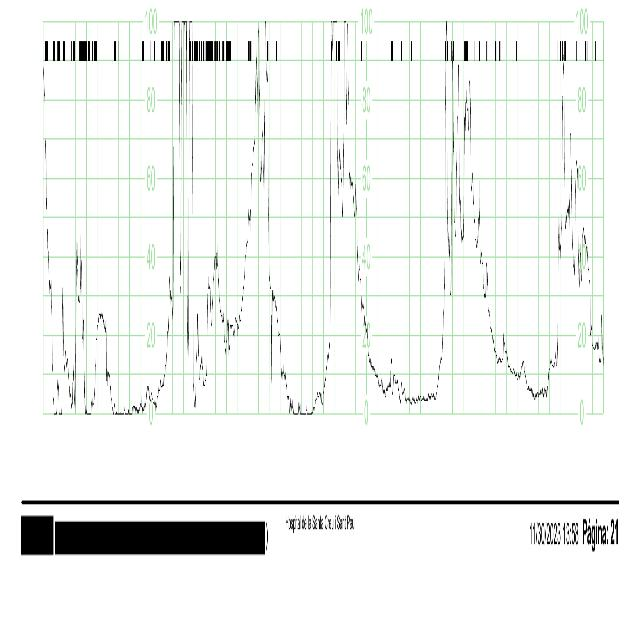contraction: (436, 25, 500, 394), (550, 23, 600, 384), (159, 27, 196, 407), (320, 31, 358, 392), (238, 23, 270, 332), (72, 234, 84, 404), (206, 249, 220, 384), (92, 311, 110, 411), (58, 295, 66, 411)
